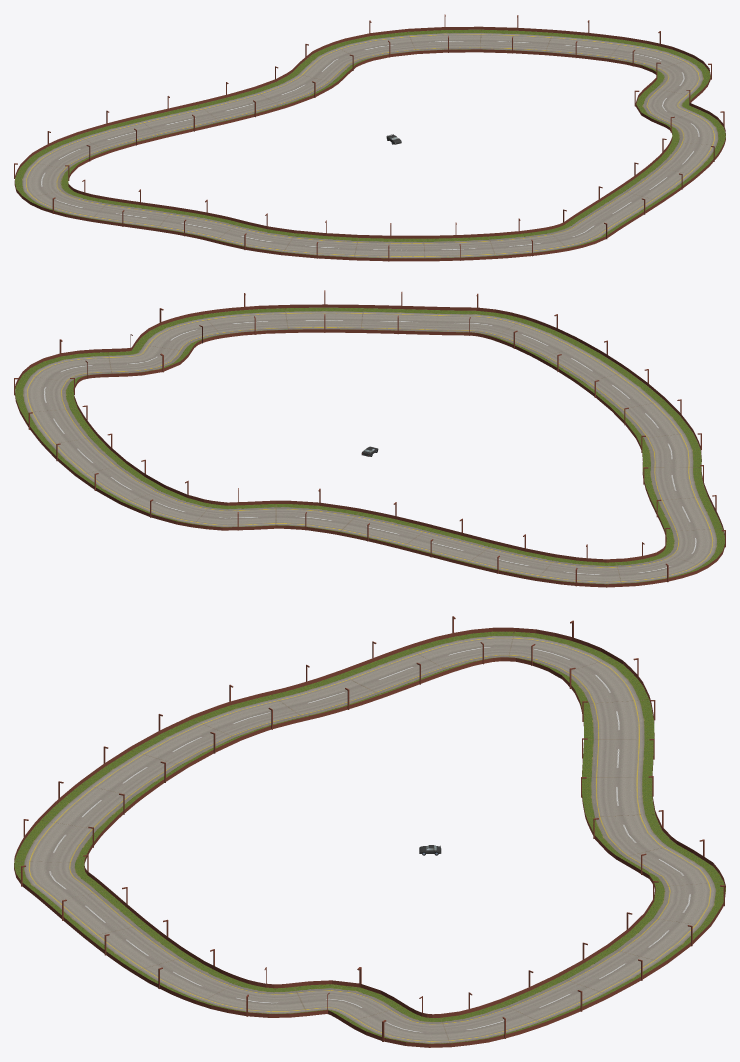
The model's file is cars and track.fbx.
3 renders of one model, top to bottom at view 1: azimuth 30°, elevation 25°; view 2: azimuth 150°, elevation 25°; view 3: azimuth 270°, elevation 25°, orthographic. The views are drawn at different scales.
Parts seen in each view (by area): view 1: road, gravel, barrierWhite, barrierYellow; view 2: road, gravel, barrierWhite, barrierYellow; view 3: road, gravel, barrierWhite, barrierYellow.
Part boxes in pixels (x1=…): road: x1=23, y1=33, x2=717, y2=257; gravel: x1=15, y1=29, x2=725, y2=258; barrierWhite: x1=14, y1=14, x2=725, y2=261; barrierYellow: x1=65, y1=35, x2=674, y2=238; road: x1=24, y1=311, x2=716, y2=583; gravel: x1=15, y1=307, x2=724, y2=584; barrierWhite: x1=14, y1=290, x2=725, y2=587; barrierYellow: x1=70, y1=314, x2=669, y2=562; road: x1=25, y1=636, x2=714, y2=1042; gravel: x1=14, y1=631, x2=725, y2=1043; barrierWhite: x1=14, y1=616, x2=725, y2=1047; barrierYellow: x1=83, y1=642, x2=658, y2=1017.
Size of the model in its own units: 7009 by 255 by 9693.
